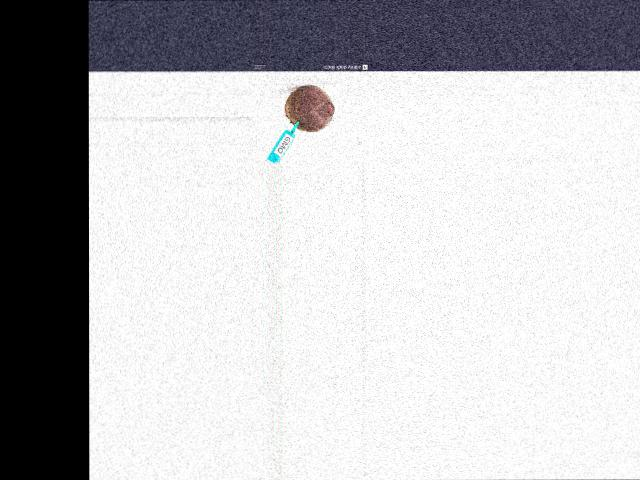beet: (284, 84, 334, 132)
